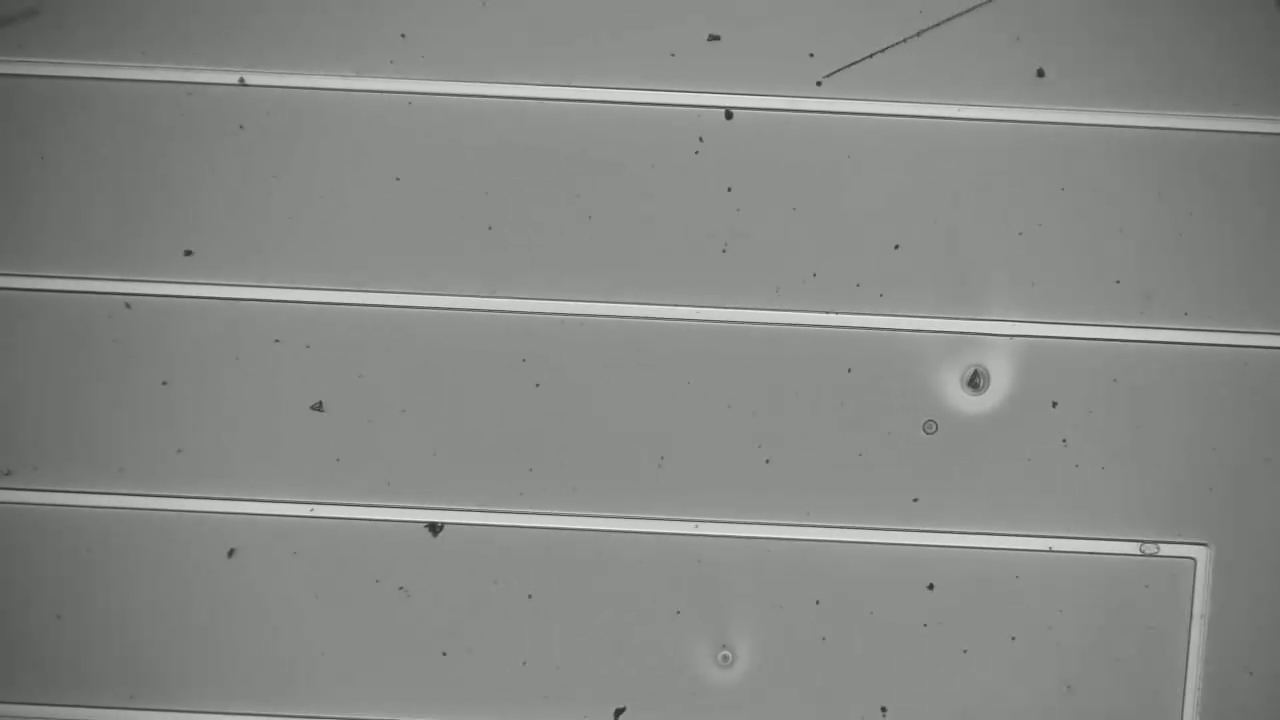scratch: (816, 1, 1003, 84)
